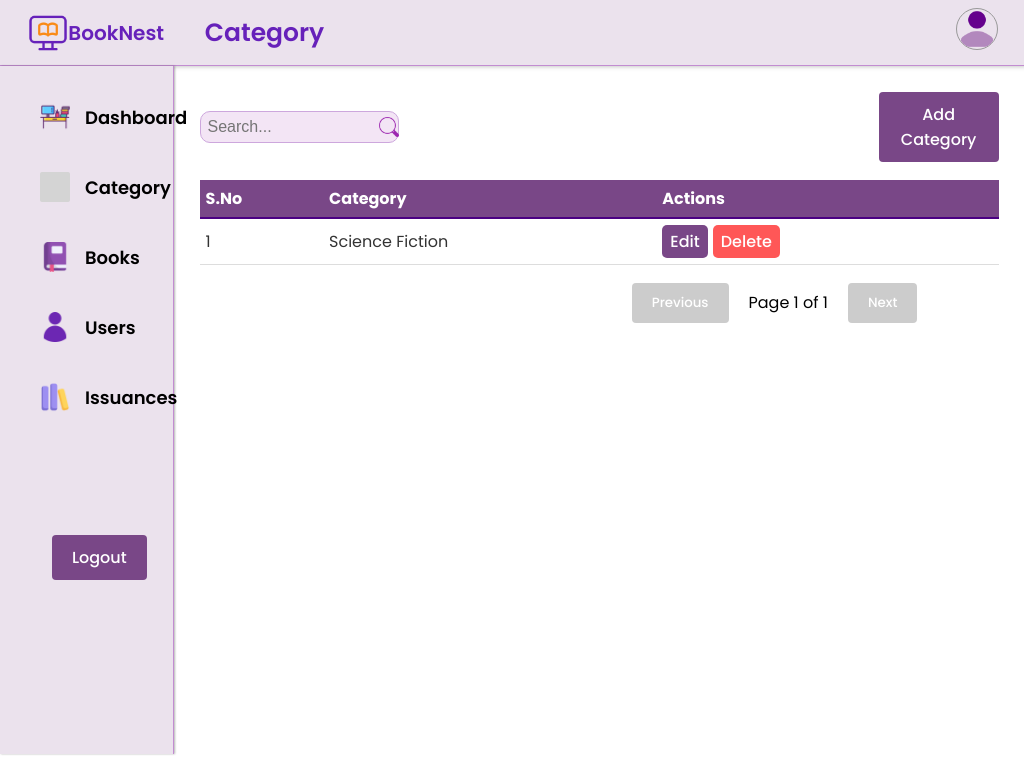
Scenario: Category Component Delete Functionality › should open delete confirmation modal when delete button is clicked
This screenshot has width=1024, height=768.
Expected: the text "Science Fiction" is shown, left=323, top=218, right=656, bottom=264
Click the button "Delete": [746, 241] box left=713, top=225, right=780, bottom=258
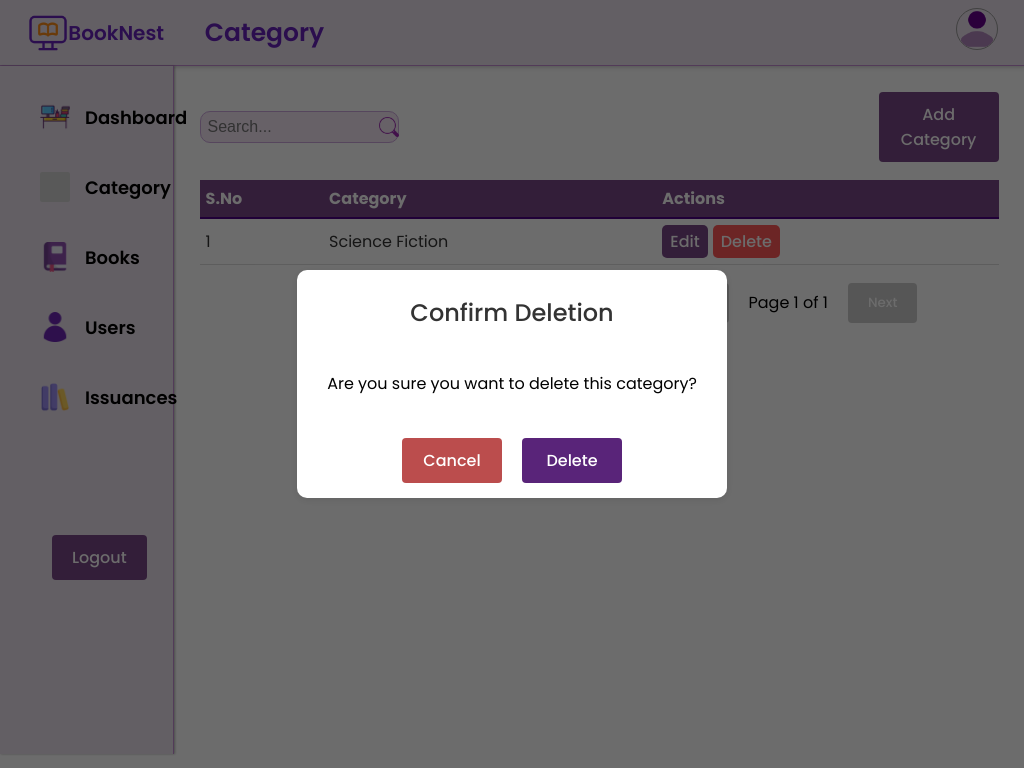
Result: the text "Are you sure you want to delete this category?" is shown at left=312, top=372, right=712, bottom=396
